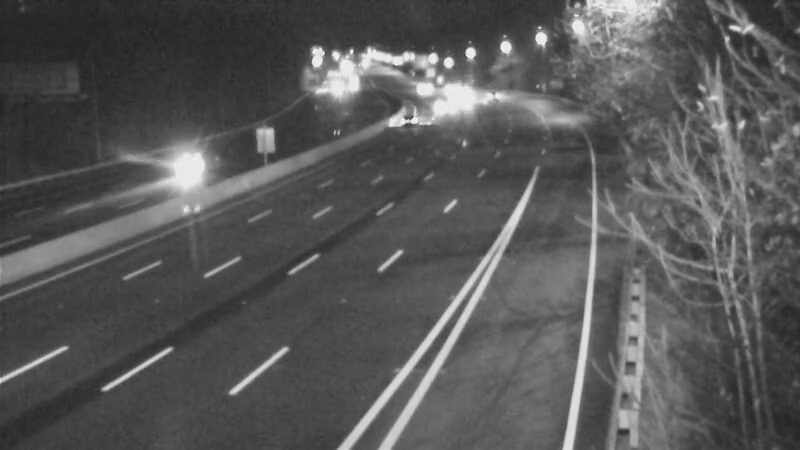vehicle: (145, 133, 225, 213), (400, 65, 450, 115), (421, 62, 471, 112), (438, 73, 488, 123), (465, 72, 515, 122), (421, 83, 471, 133), (385, 91, 435, 141)
